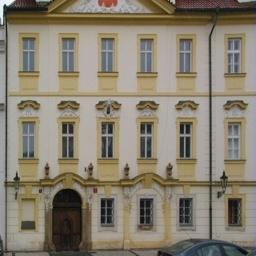building: (6, 0, 256, 240)
